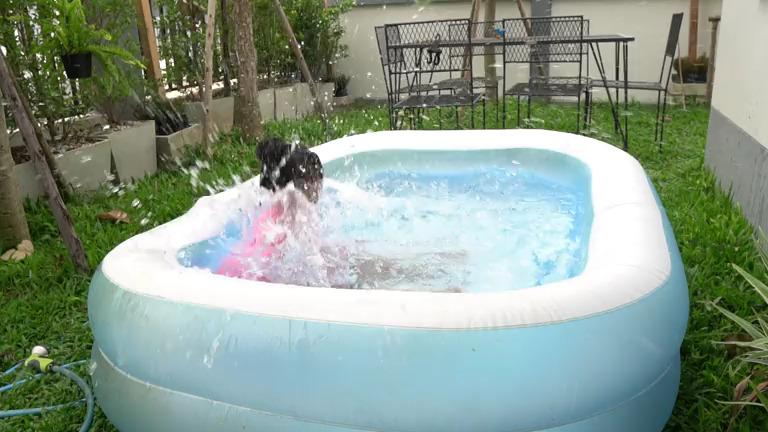Swimming: (181, 92, 454, 309)
